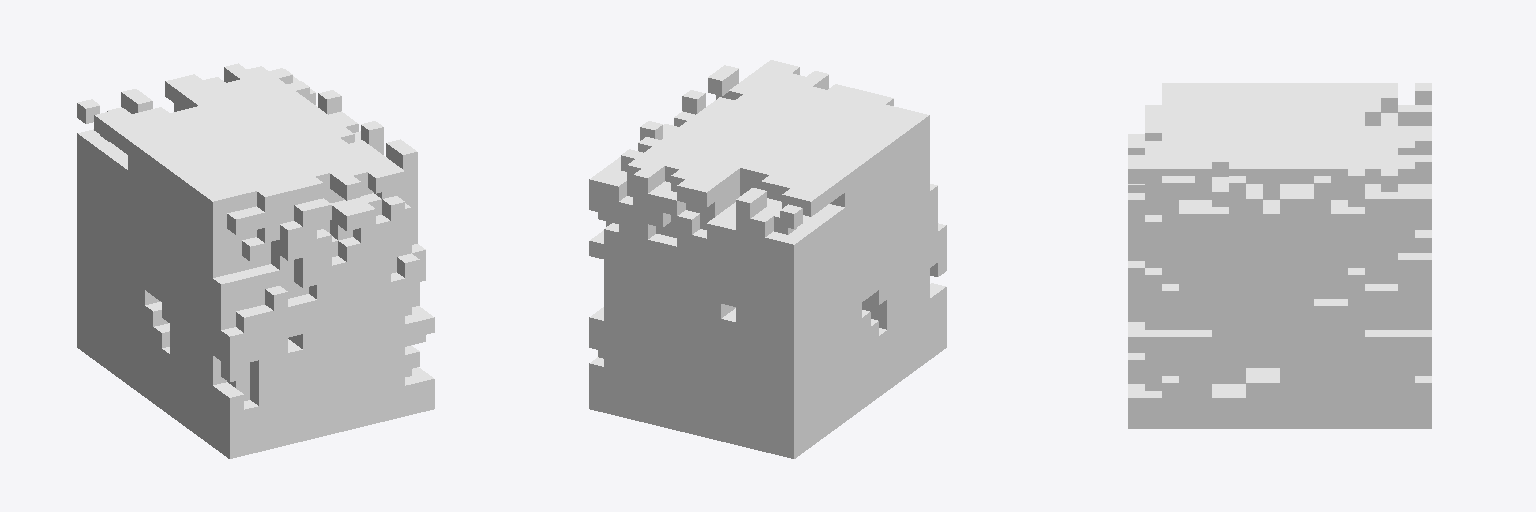
The model's file is House1-8.obj.
The picture shows the model from 3 angles: view 1: azimuth 30°, elevation 25°; view 2: azimuth 150°, elevation 25°; view 3: azimuth 270°, elevation 25°; orthographic projection.
Parts seen in each view (by area): view 1: object 1; view 2: object 1; view 3: object 1.
Part boxes in pixels (x1,y1,x2,y2): object 1: (77, 63, 434, 458); object 1: (589, 60, 946, 458); object 1: (1128, 83, 1431, 428).
Size of the model in its own units: 1.4 by 1.6 by 1.8.